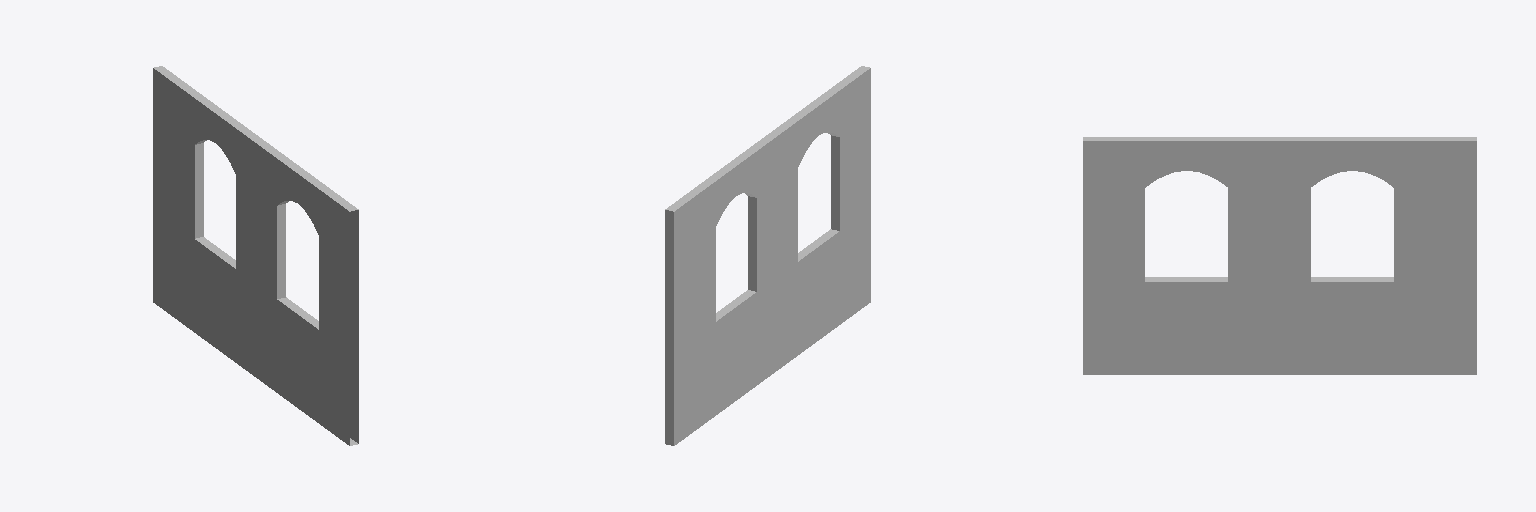
The model's file is wall 2.obj.
The picture shows the model from 3 angles: view 1: azimuth 30°, elevation 25°; view 2: azimuth 150°, elevation 25°; view 3: azimuth 270°, elevation 25°; orthographic projection.
Parts seen in each view (by area): view 1: wall2; view 2: wall2; view 3: wall2.
Boxes of the visible parts, x1=… form: wall2: x1=153, y1=66, x2=358, y2=445; wall2: x1=665, y1=66, x2=870, y2=445; wall2: x1=1083, y1=137, x2=1476, y2=374.
Size of the model in its own units: 10 by 250 by 380.